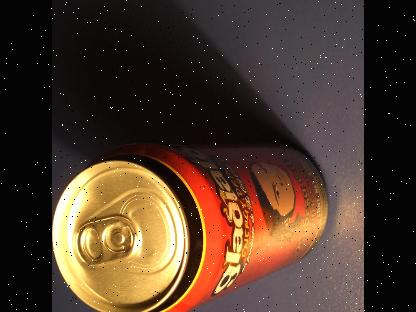Can: (52, 125, 331, 312)
